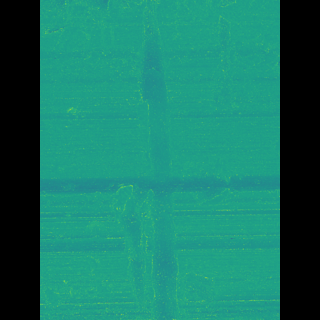Loch: (126, 0, 176, 320), (196, 0, 228, 129), (182, 151, 221, 217)
